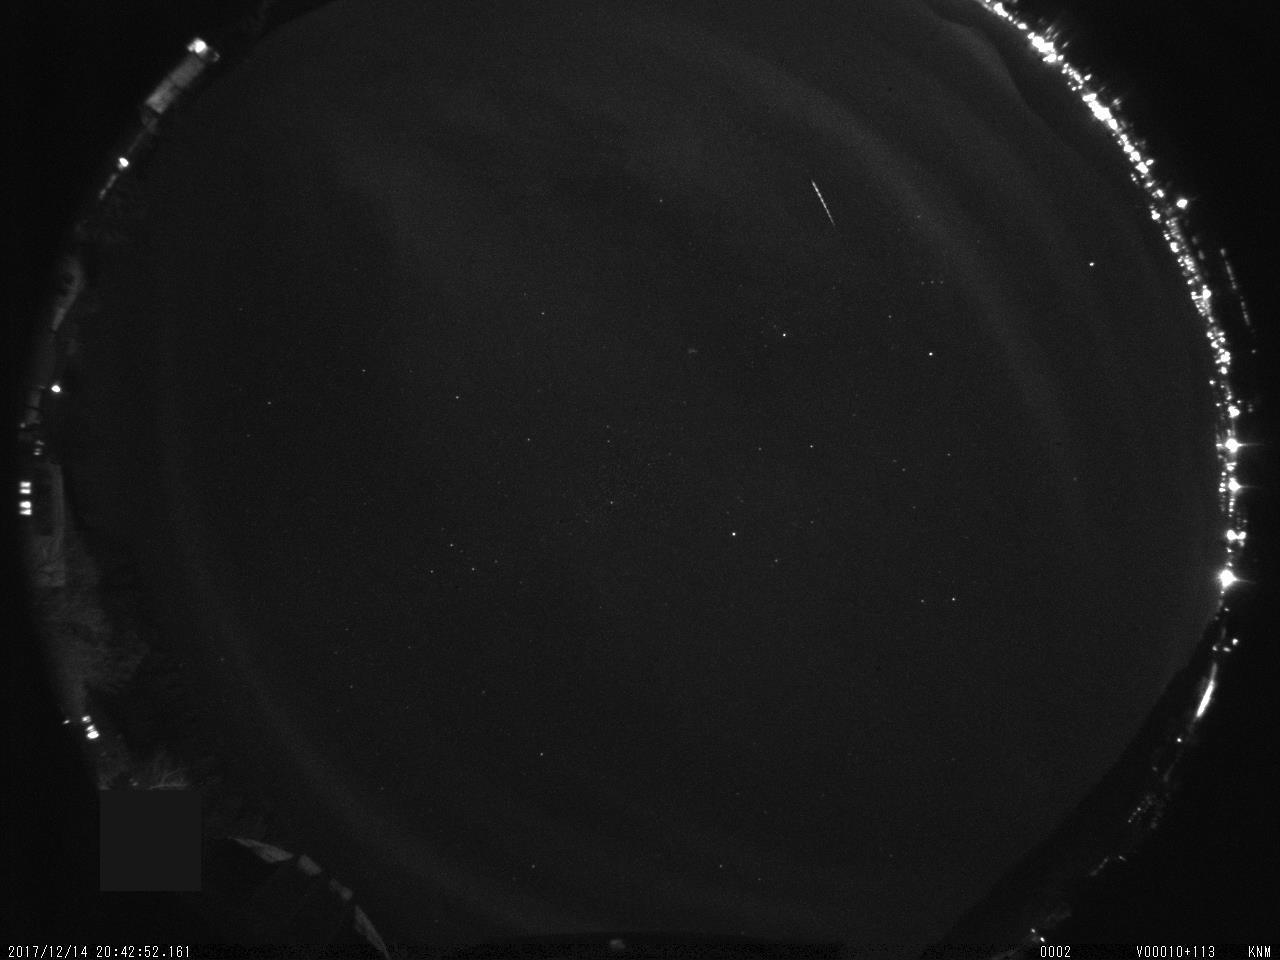Meteor: (807, 174, 841, 234)
